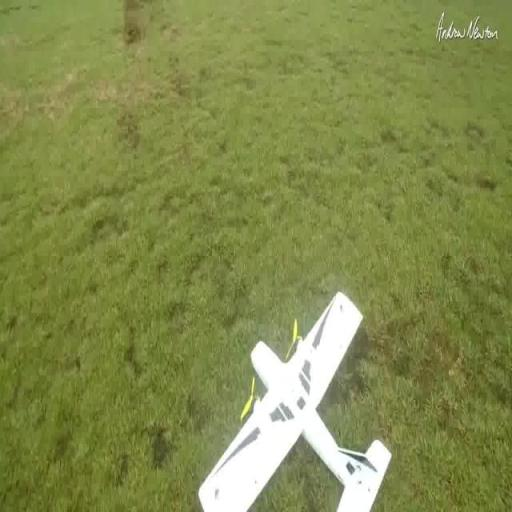uav: (182, 269, 400, 512)
